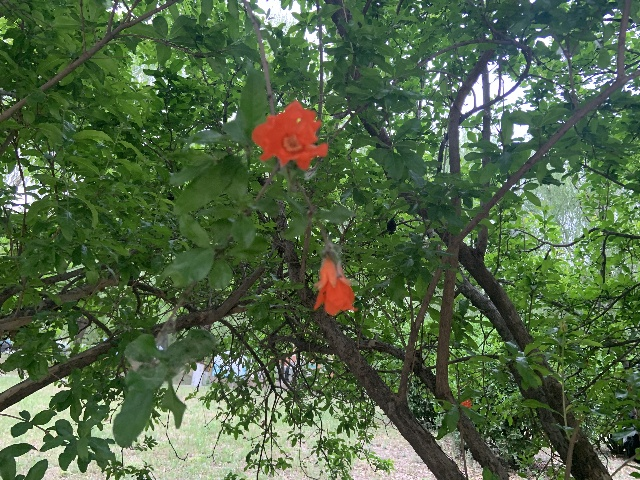flower: (252, 99, 327, 170), (312, 256, 356, 315), (460, 398, 472, 407)
